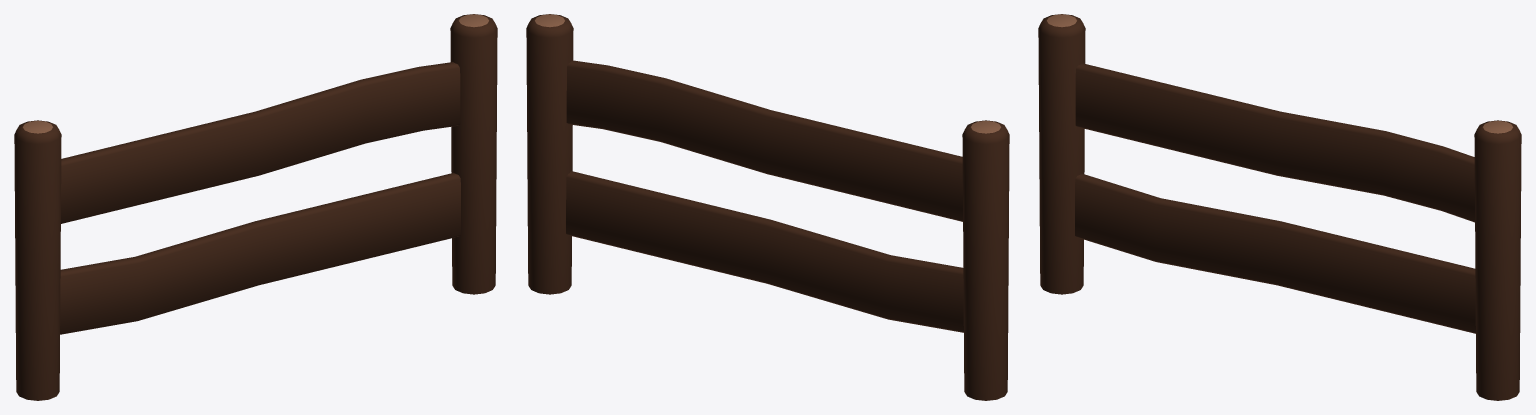
Rendered from Fence_1.fbx.
3 renders of one model, left to right at view 1: azimuth 30°, elevation 25°; view 2: azimuth 150°, elevation 25°; view 3: azimuth 330°, elevation 25°, orthographic.
Visible parts, largest first — view 1: Fence_1; view 2: Fence_1; view 3: Fence_1.
Part boxes in pixels (x1,y1,x2,y2): Fence_1: (14, 14, 497, 400); Fence_1: (526, 14, 1009, 400); Fence_1: (1038, 14, 1521, 400).
Size of the model in its own units: 1.51 by 0.8033 by 0.1295.
